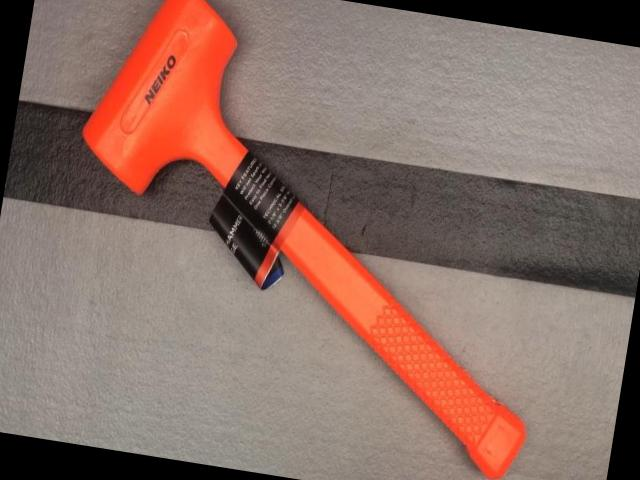hammer: (36, 0, 587, 480)
